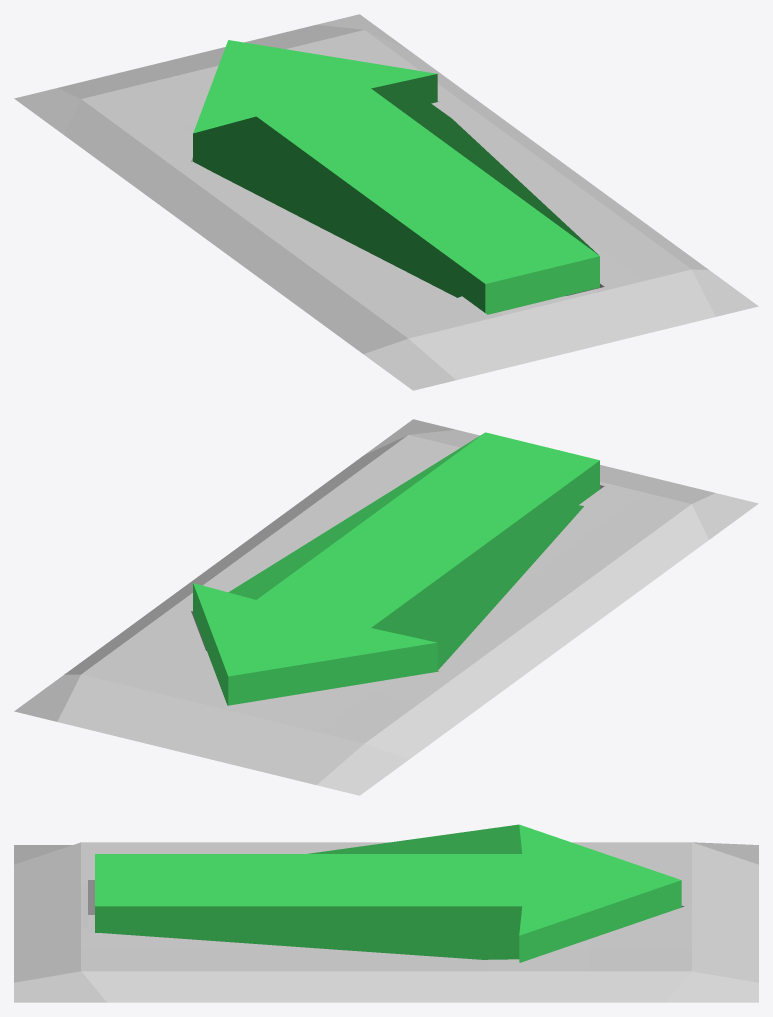
The picture shows the model from 3 angles, top to bottom: view 1: azimuth 30°, elevation 25°; view 2: azimuth 150°, elevation 25°; view 3: azimuth 270°, elevation 25°; orthographic projection. The views are drawn at different scales.
Parts seen in each view (by area): view 1: Plane.002, Cube; view 2: Plane.002, Cube; view 3: Plane.002, Cube.
Boxes of the visible parts, bbox=[...] form: Plane.002: bbox=[14, 14, 758, 390]; Cube: bbox=[193, 40, 599, 314]; Plane.002: bbox=[14, 419, 758, 795]; Cube: bbox=[193, 432, 599, 705]; Plane.002: bbox=[14, 842, 758, 1002]; Cube: bbox=[95, 824, 681, 962].
Size of the model in its own units: 91.5 by 16.61 by 183.
